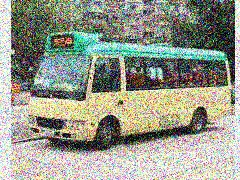bus: (31, 41, 230, 147)
